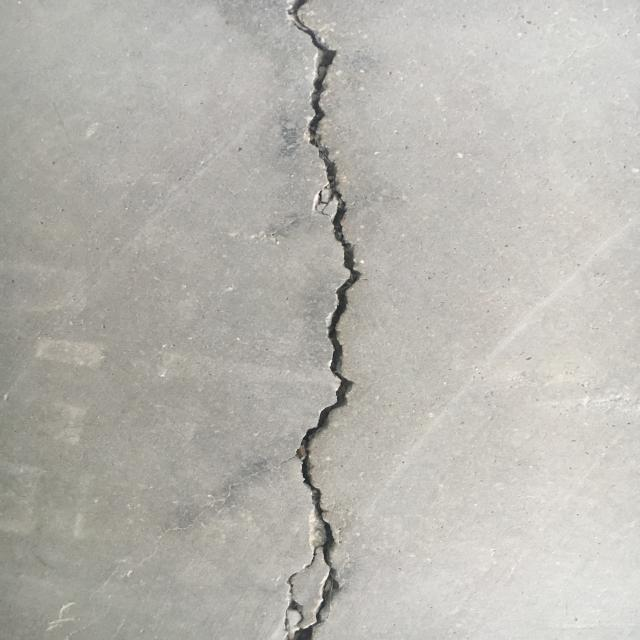Rachadura: (281, 0, 366, 640)
